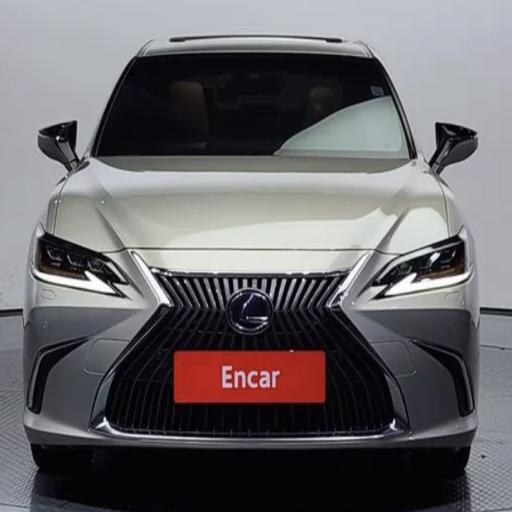normal: (17, 15, 496, 491)
